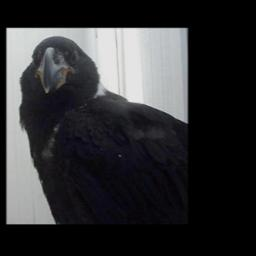Crow: (17, 35, 187, 224)
